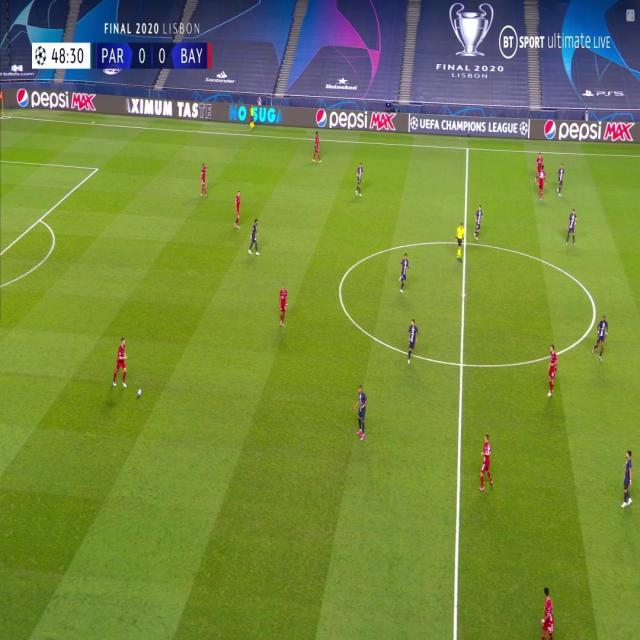ball: (137, 387, 143, 397)
player: (478, 432, 494, 492), (538, 587, 556, 639), (111, 337, 129, 388), (620, 450, 634, 509), (591, 315, 609, 359), (354, 385, 368, 440), (546, 344, 559, 398), (406, 319, 419, 365), (397, 251, 410, 292), (565, 208, 578, 247), (472, 203, 484, 242), (248, 218, 260, 255), (279, 283, 289, 327), (233, 188, 243, 229), (199, 162, 209, 198), (556, 162, 566, 197), (354, 162, 364, 197), (538, 165, 547, 202), (312, 131, 322, 164), (534, 152, 543, 182)
referee: (455, 221, 465, 263), (249, 104, 255, 132)
